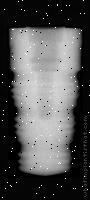DENTSPLY: (8, 26, 83, 178)
